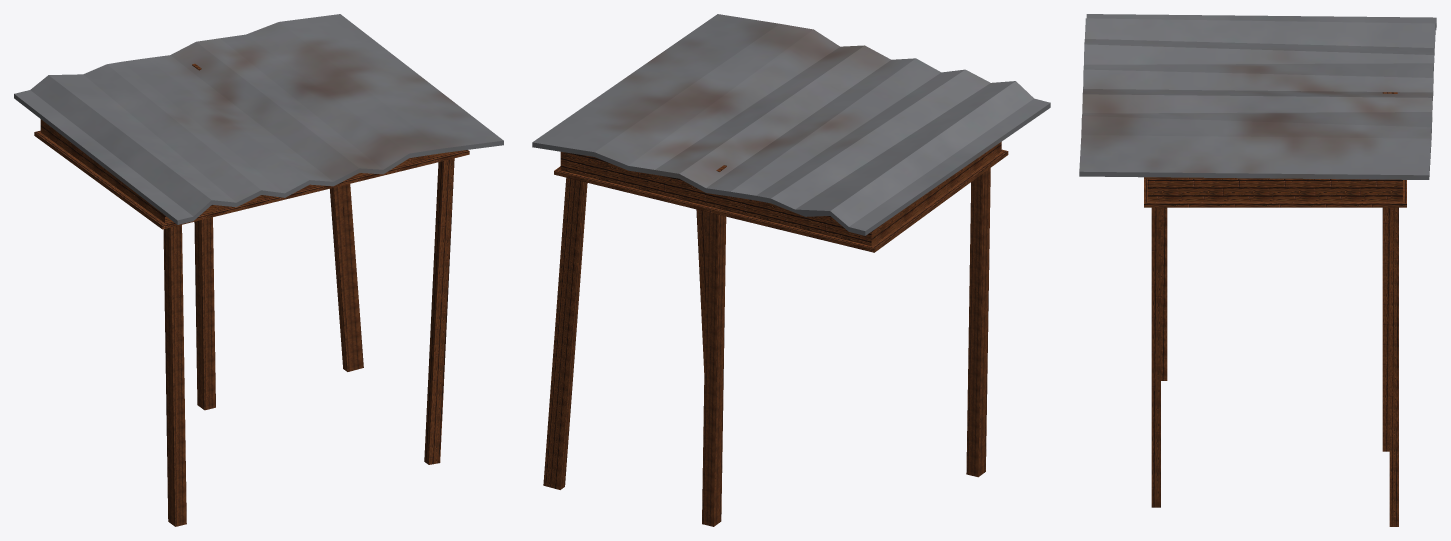
File: Props_Abris.fbx
3 renders of one model, left to right at view 1: azimuth 30°, elevation 25°; view 2: azimuth 150°, elevation 25°; view 3: azimuth 270°, elevation 25°, orthographic. The views are drawn at different scales.
Visible parts, largest first — view 1: Props_Abris; view 2: Props_Abris; view 3: Props_Abris.
Part boxes in pixels (x1,y1,x2,y2): Props_Abris: [14, 14, 503, 526]; Props_Abris: [532, 14, 1050, 526]; Props_Abris: [1079, 14, 1436, 526].
Bounding box in the file's own units: 537 × 538 × 485.
